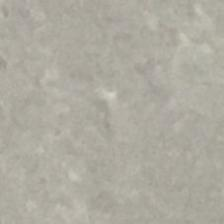Non_Crack: (5, 3, 224, 224)
